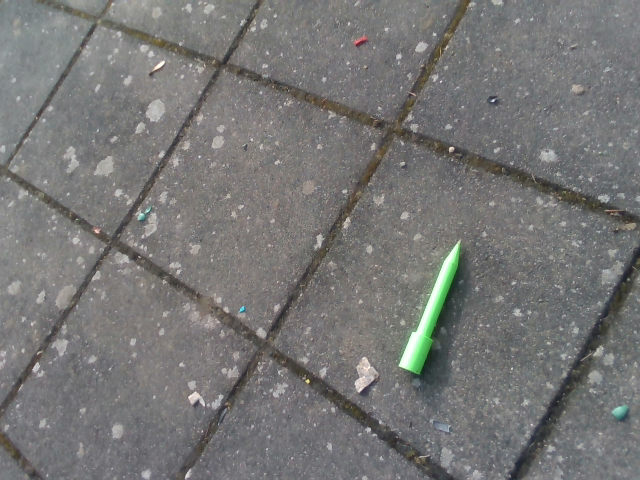Probe: (393, 228, 471, 388)
